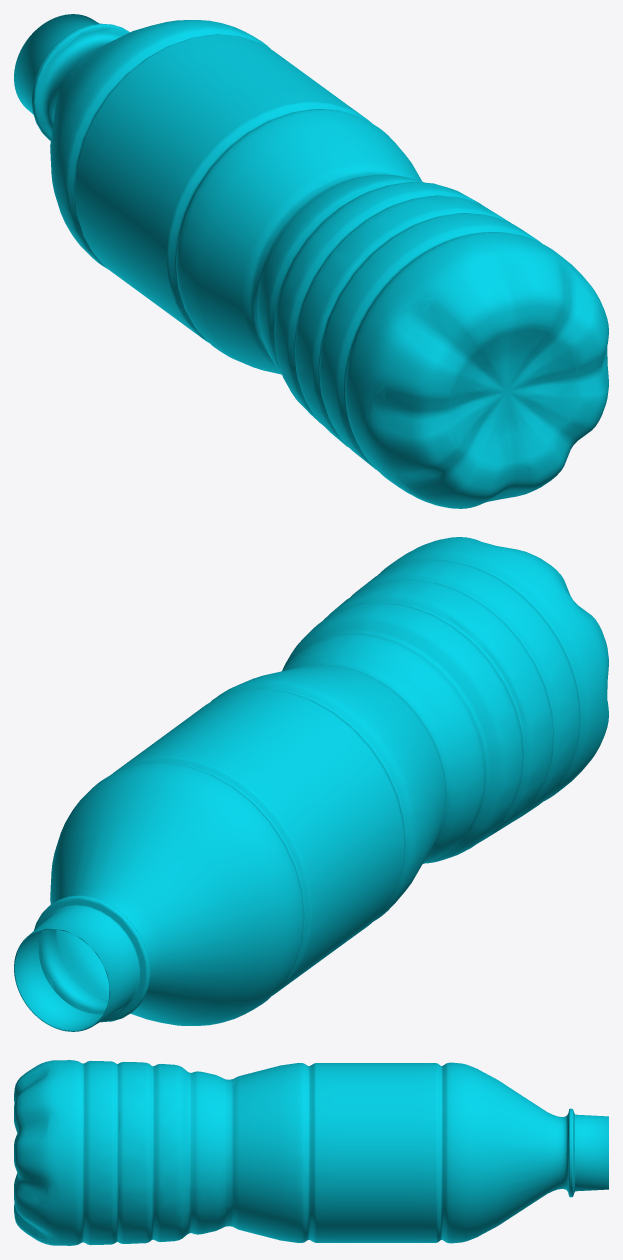
The model's file is bottle.glb.
3 renders of one model, top to bottom at view 1: azimuth 30°, elevation 25°; view 2: azimuth 150°, elevation 25°; view 3: azimuth 270°, elevation 25°, orthographic. The views are drawn at different scales.
Parts seen in each view (by area): view 1: bottle_0; view 2: bottle_0; view 3: bottle_0.
Part boxes in pixels (x1=…): bottle_0: x1=14, y1=14, x2=608, y2=508; bottle_0: x1=14, y1=537, x2=608, y2=1031; bottle_0: x1=14, y1=1060, x2=608, y2=1245.
Size of the model in its own units: 0.6421 by 0.6421 by 2.06.
